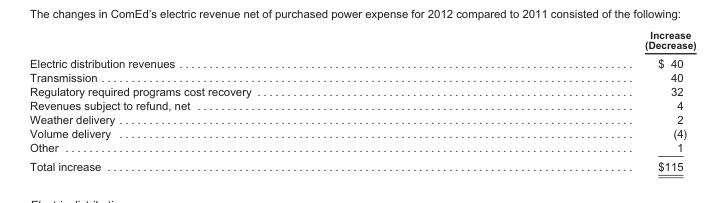table: (29, 28, 695, 171)
table column: (29, 28, 447, 171), (447, 28, 695, 171)
table column header: (29, 28, 695, 53)
table row: (29, 28, 695, 53), (29, 53, 695, 70), (29, 139, 695, 156), (29, 156, 695, 171), (29, 70, 695, 84), (29, 97, 695, 111), (29, 111, 695, 125), (29, 125, 695, 139), (29, 84, 695, 97)
